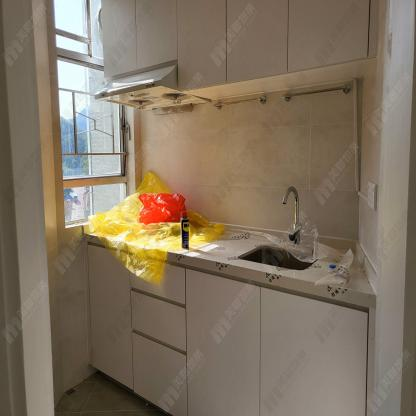Cupboard: (84, 246, 368, 416), (97, 0, 383, 88)
Exhaust Hood: (93, 64, 210, 116)
Faucet: (276, 179, 304, 246)
Sink: (239, 245, 324, 272)
